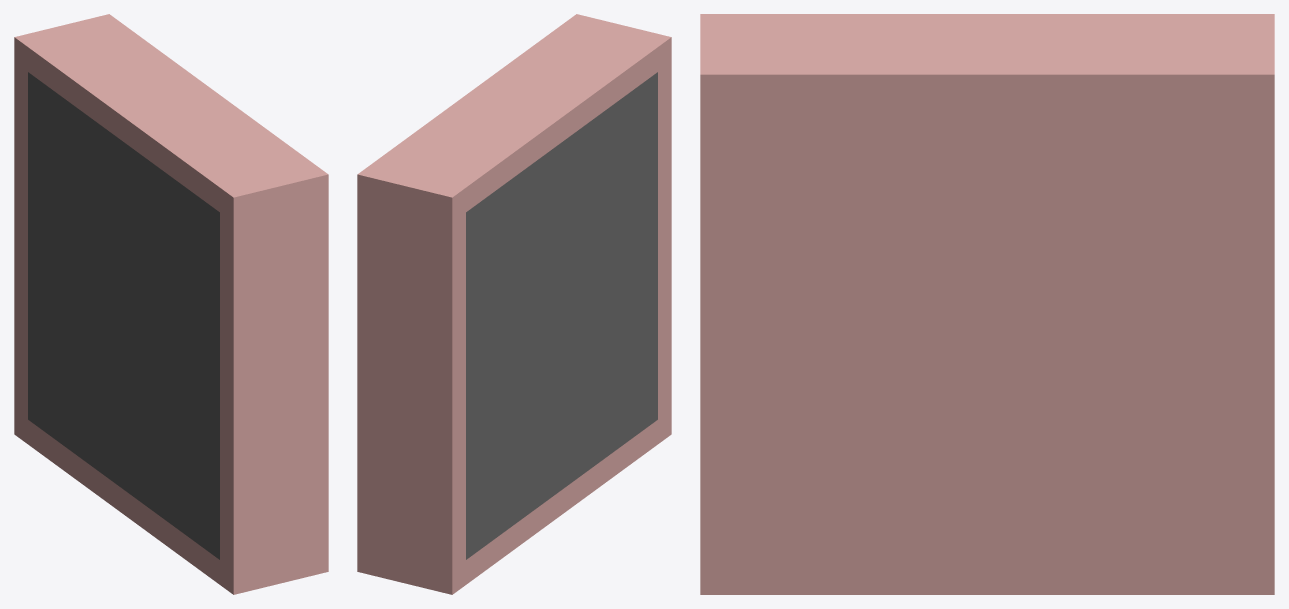
Rendered from storage2.glb.
3 renders of one model, left to right at view 1: azimuth 30°, elevation 25°; view 2: azimuth 150°, elevation 25°; view 3: azimuth 270°, elevation 25°, orthographic. The views are drawn at different scales.
Parts seen in each view (by area): view 1: Storage2.004; view 2: Storage2.004; view 3: Storage2.004.
Part boxes in pixels (bbox=[...]): Storage2.004: bbox=[14, 14, 328, 594]; Storage2.004: bbox=[357, 14, 671, 594]; Storage2.004: bbox=[700, 14, 1274, 594].
Size of the model in its own units: 2.5 by 9.99 by 9.99.
